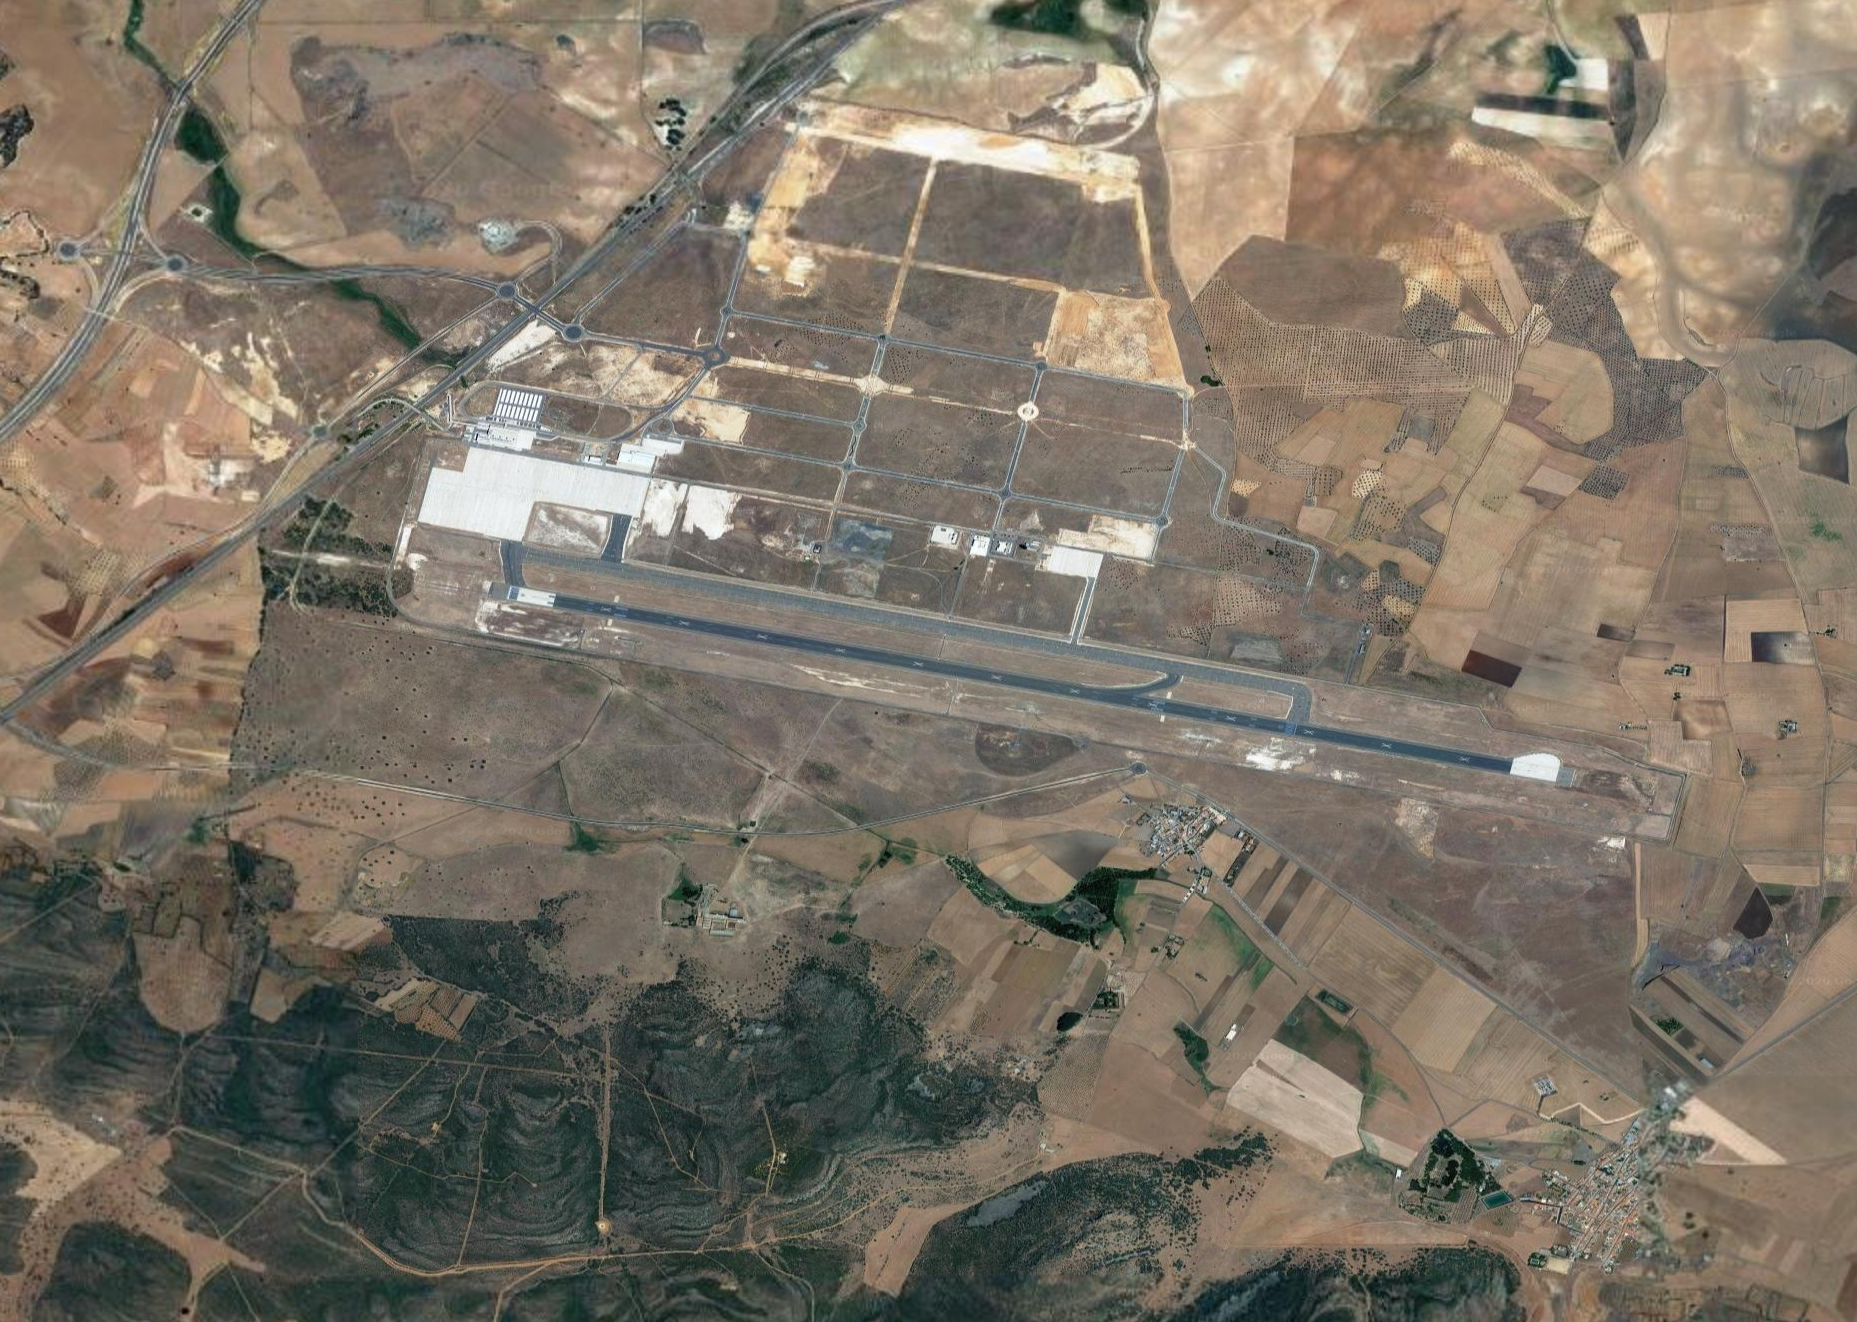airport: (451, 378, 1567, 788)
motorway: (137, 1, 268, 153), (599, 107, 753, 227), (738, 1, 891, 119), (1, 299, 113, 446), (130, 508, 265, 620), (1, 612, 127, 721), (348, 248, 536, 310), (90, 152, 162, 303), (167, 248, 348, 298)
